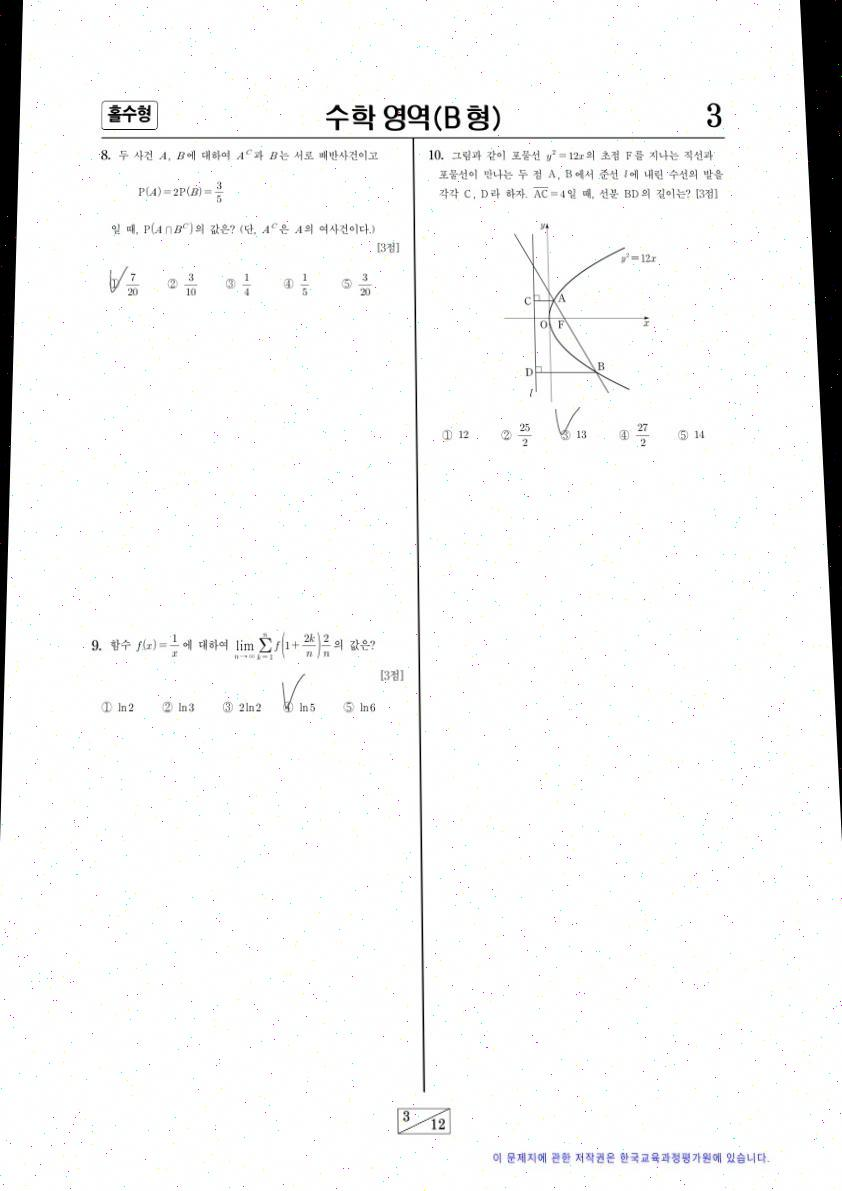question: (420, 142, 733, 462), (84, 143, 409, 311), (78, 627, 410, 733)
